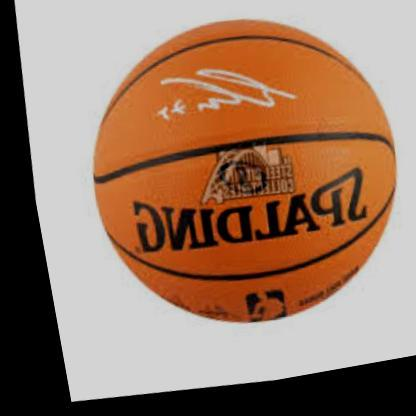basketball: (57, 0, 416, 359)
